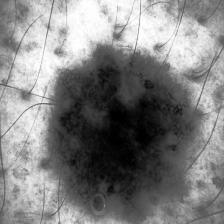Benign Marking or Mole: (52, 51, 190, 217)
